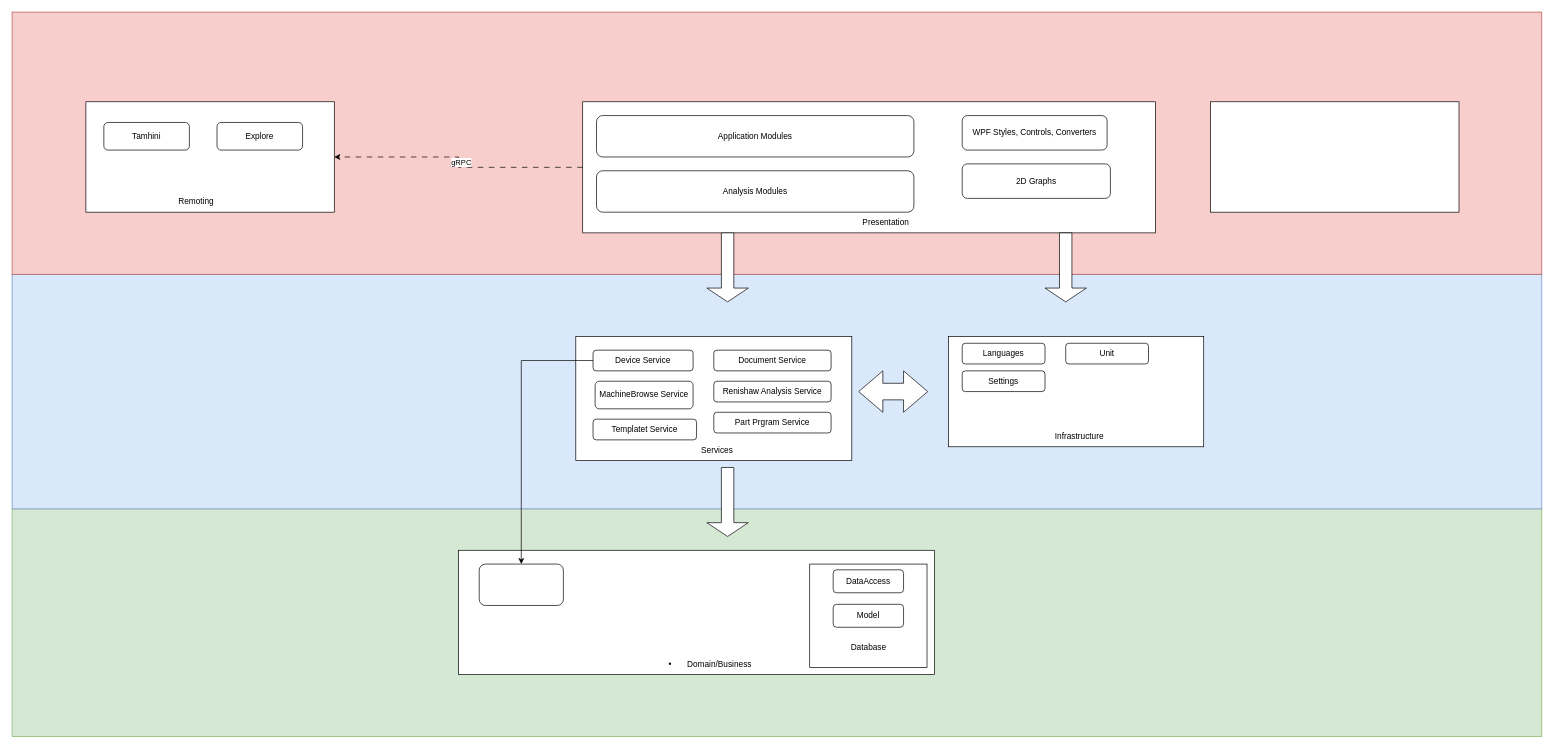
Some shapes in this 1554 by 749 pixel diagram are drawn without their labels. The shapes that lost their labels are listed below. From the top down, each one's centre as x and y in pixels, then its label:
At pixel 1334 156: "Tests".
At pixel 521 584: "QCAPI".
